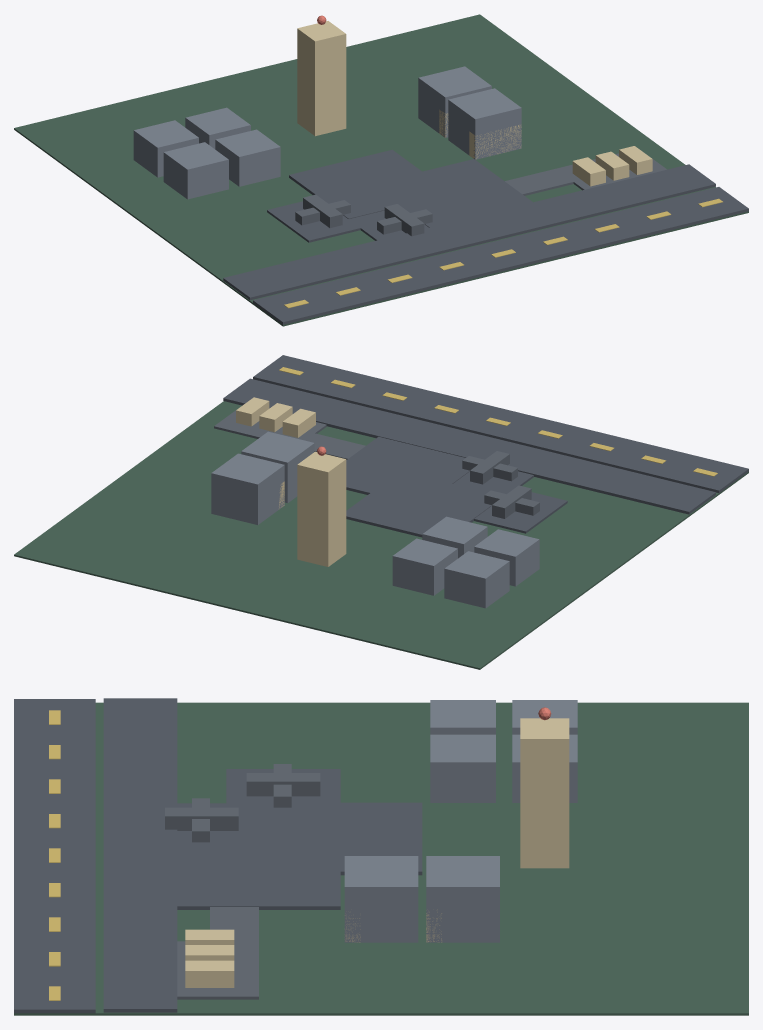
Rendered from stage_14.glb.
The picture shows the model from 3 angles, top to bottom: view 1: azimuth 30°, elevation 25°; view 2: azimuth 150°, elevation 25°; view 3: azimuth 270°, elevation 25°; orthographic projection. The views are drawn at different scales.
Parts seen in each view (by area): view 1: geometry_0; view 2: geometry_0; view 3: geometry_0.
Boxes of the visible parts, x1,y1,x2,y2 form: geometry_0: [14, 14, 748, 326]; geometry_0: [14, 355, 748, 669]; geometry_0: [14, 698, 748, 1015].
Bounding box in the file's own units: 9 × 2.06 × 9.
